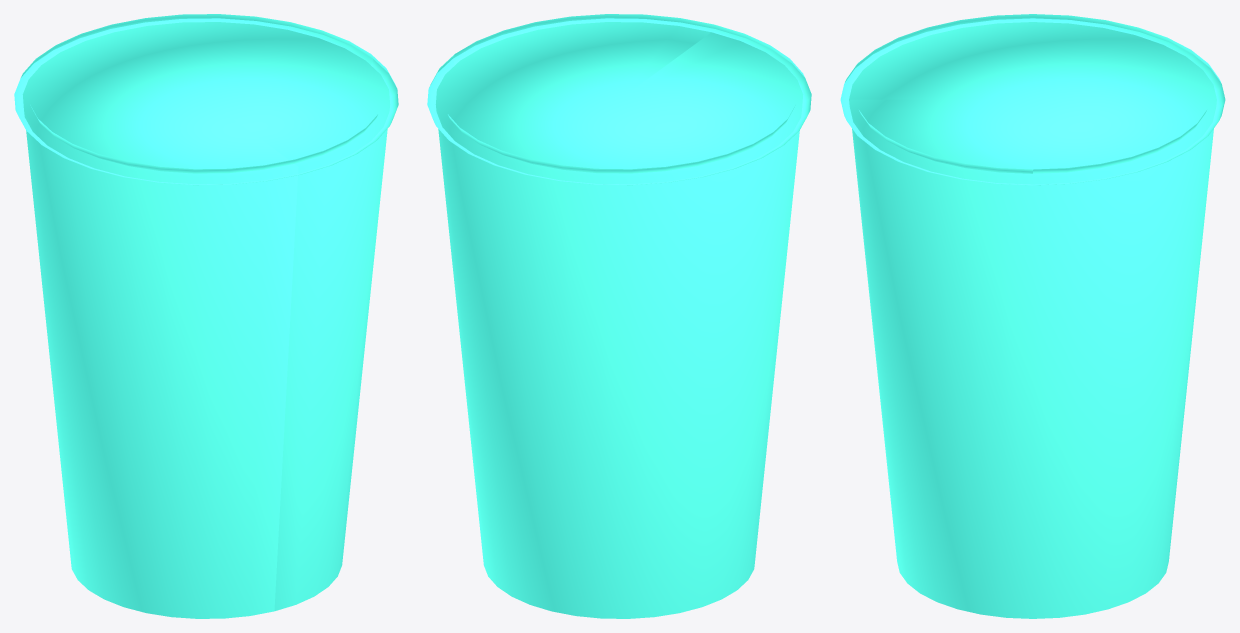
File: water-glass.glb
3 views of the same model, side by side, from view 1: azimuth 30°, elevation 25°; view 2: azimuth 150°, elevation 25°; view 3: azimuth 270°, elevation 25° (orthographic).
Visible parts, largest first — view 1: WaterGlass; view 2: WaterGlass; view 3: WaterGlass.
Part boxes in pixels (x1,y1,x2,y2): WaterGlass: [14, 14, 398, 618]; WaterGlass: [427, 14, 811, 618]; WaterGlass: [840, 14, 1225, 618].
Size of the model in its own units: 1.36 by 1.83 by 1.36.
